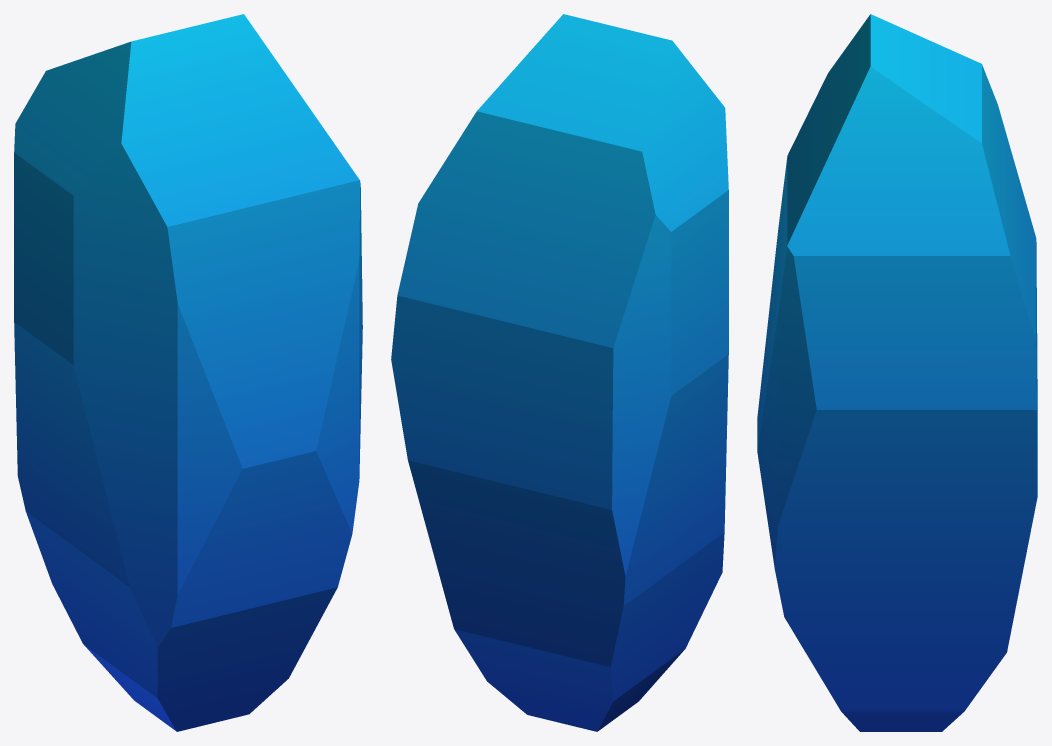
File: crystal_28.glb
The picture shows the model from 3 angles, left to right: view 1: azimuth 30°, elevation 25°; view 2: azimuth 150°, elevation 25°; view 3: azimuth 270°, elevation 25°; orthographic projection. The views are drawn at different scales.
Visible parts, largest first — view 1: crystal_28; view 2: crystal_28; view 3: crystal_28.
Boxes of the visible parts, x1,y1,x2,y2 form: crystal_28: (14, 14, 362, 731); crystal_28: (391, 14, 728, 731); crystal_28: (757, 14, 1037, 731).
Bounding box in the file's own units: 1.08 × 2.74 × 1.05.
Materials: 1 (1 with a texture image).
